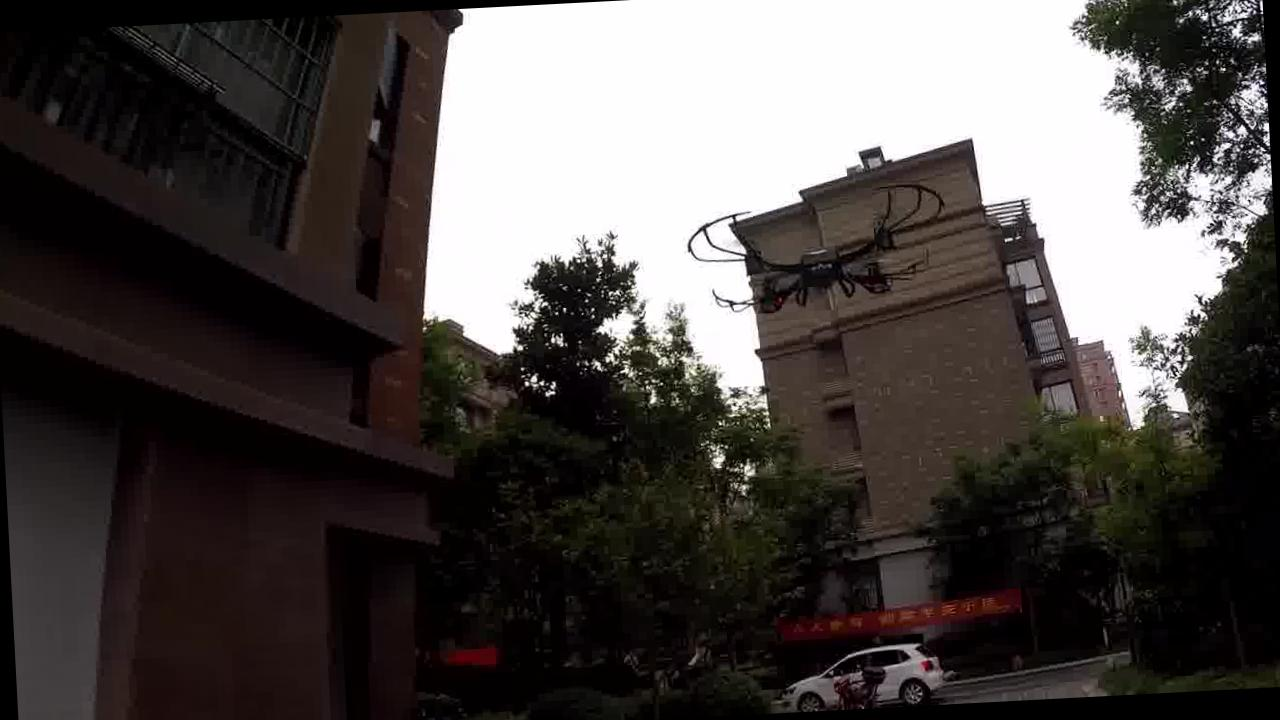drone: (672, 177, 972, 336)
